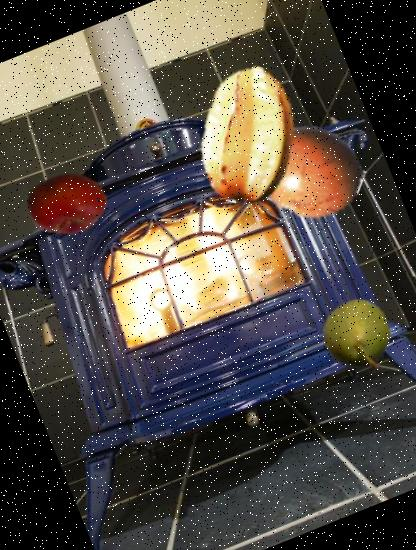Carambula: (158, 44, 340, 226)
Granadilla: (216, 84, 384, 252)
Nectarine: (15, 152, 119, 256)
Pear: (308, 286, 410, 388)
